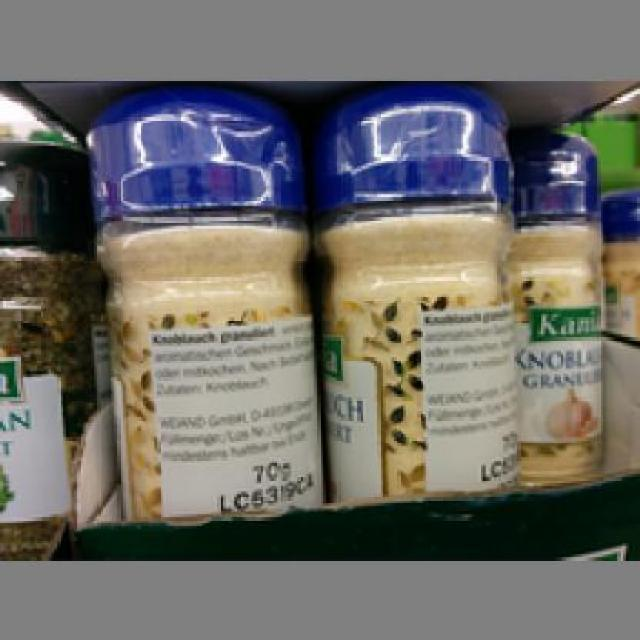Spices: (83, 89, 323, 518), (316, 86, 509, 500), (506, 126, 606, 483)
